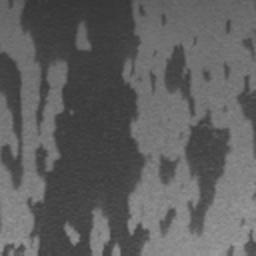Red iron sheet: (0, 0, 256, 256), (228, 229, 256, 256), (160, 13, 169, 26), (225, 18, 230, 33)
